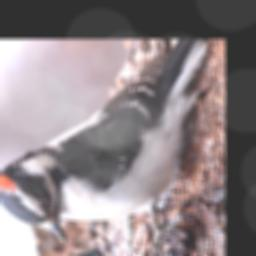Woodpecker: (0, 41, 212, 247)
